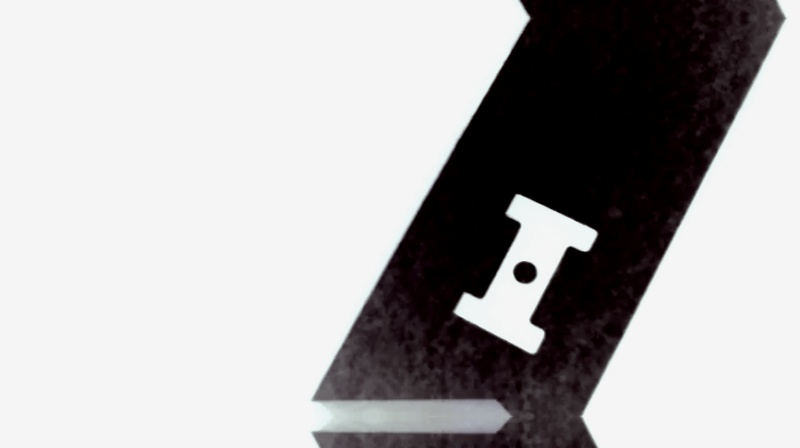O002: (450, 190, 601, 356)
